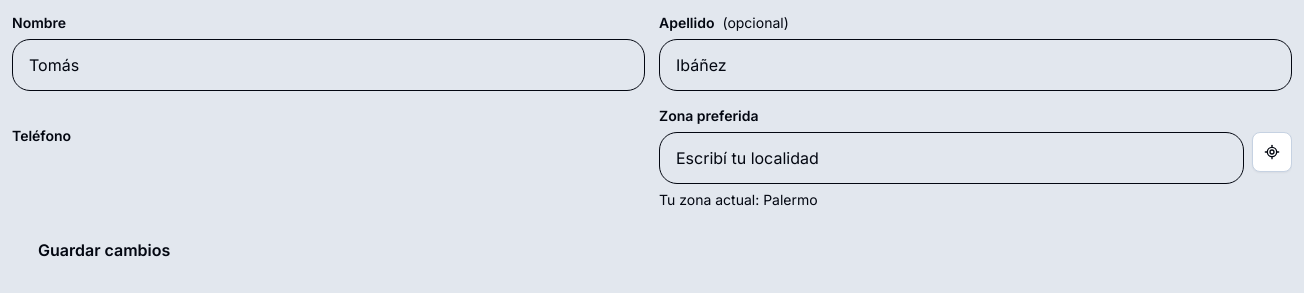
ProfileForm › "Guardado" aparece al guardar y desaparece en cuanto se vuelve a editar
Later steps or results of the test are not shown.
Click the button "Guardar cambios". click: (104, 250)
box: [12,224,196,276]
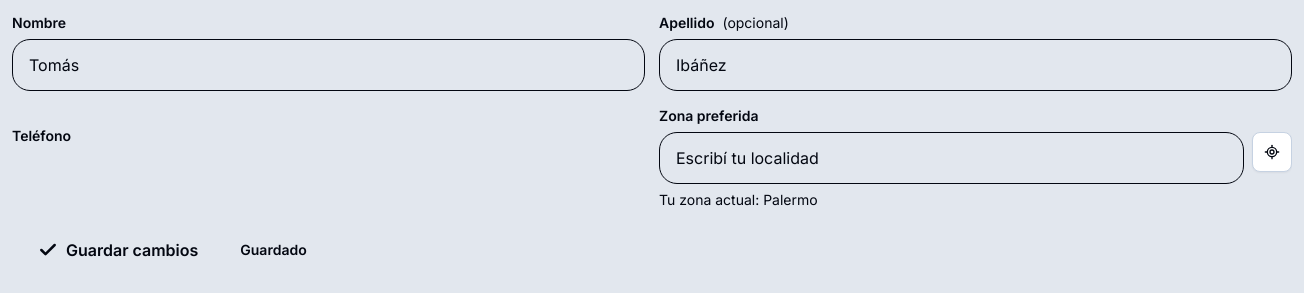
Check: the message reads "Guardado", box [240,241,307,258]
